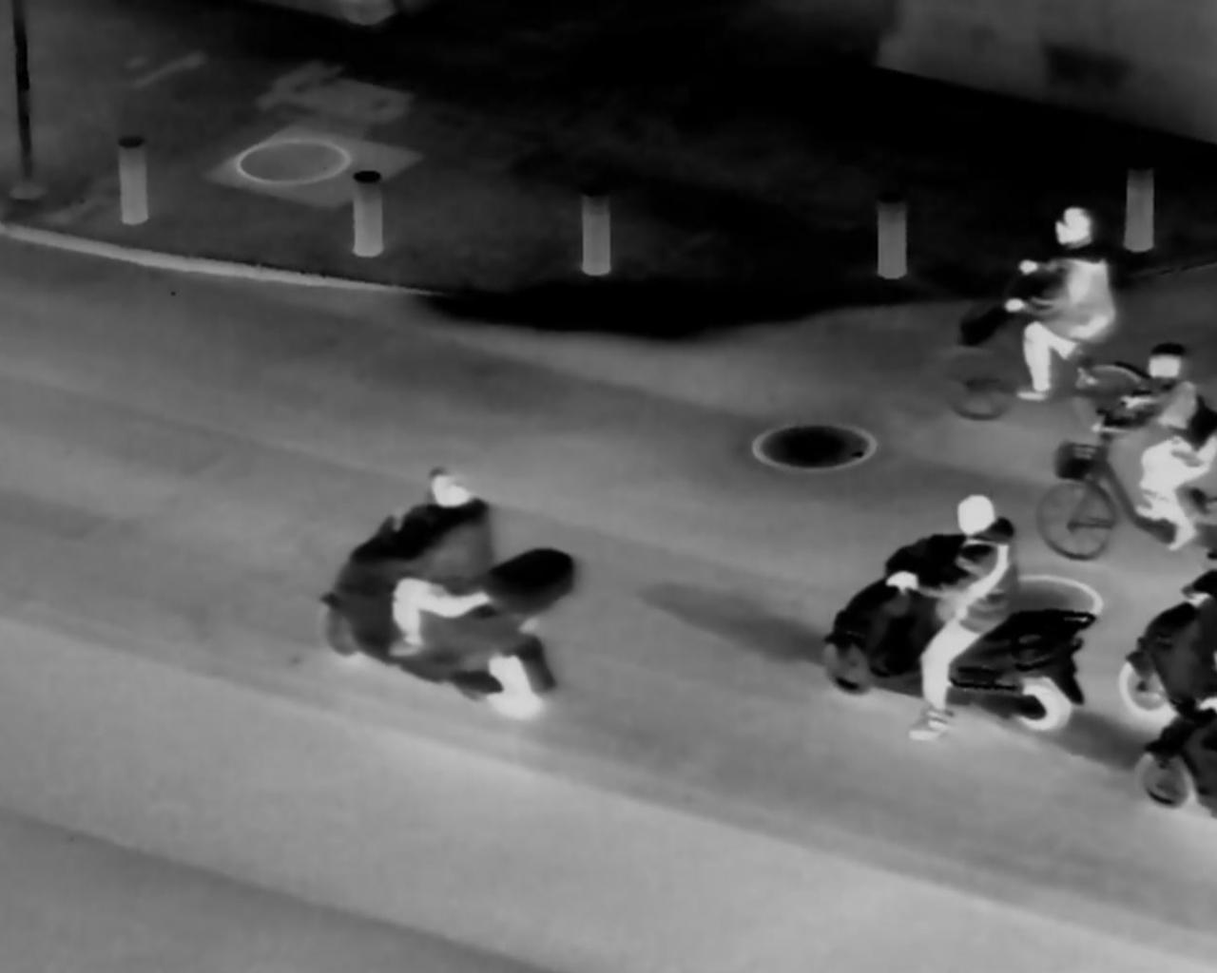person: (901, 486, 1017, 733), (1107, 334, 1217, 550), (384, 462, 505, 653), (1015, 196, 1120, 410)
